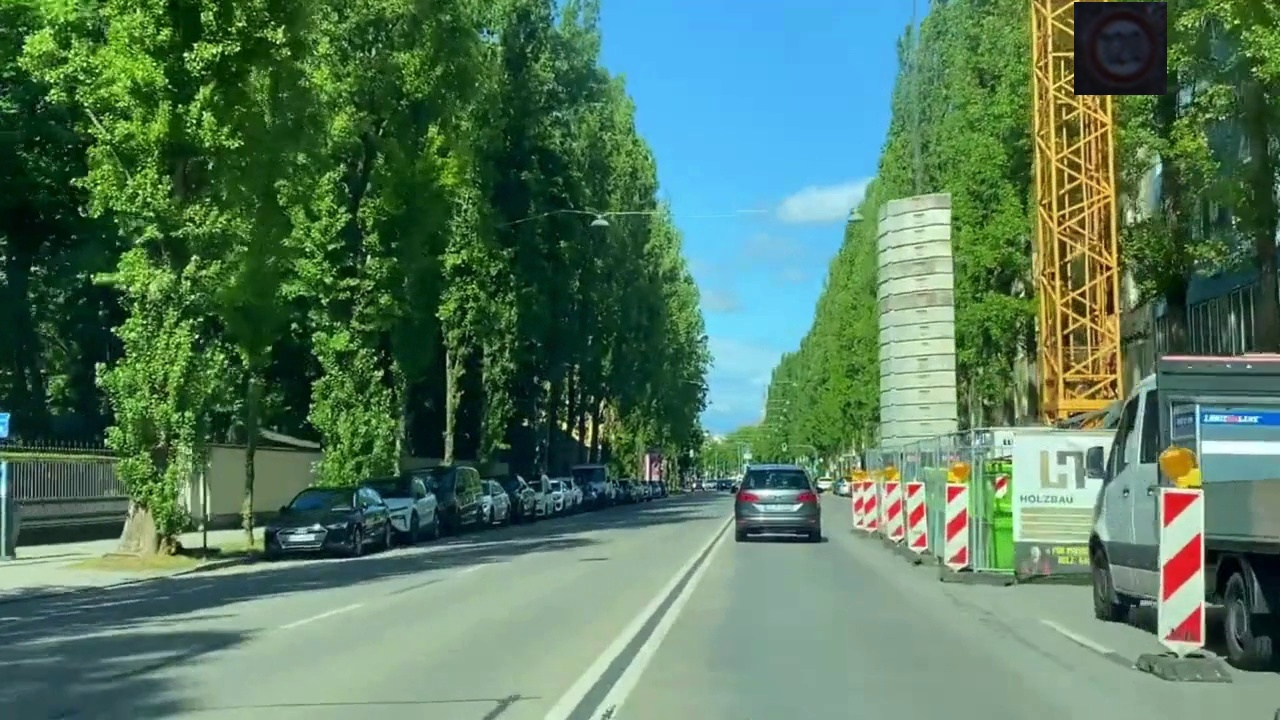Speed 120: (1074, 2, 1167, 95)
